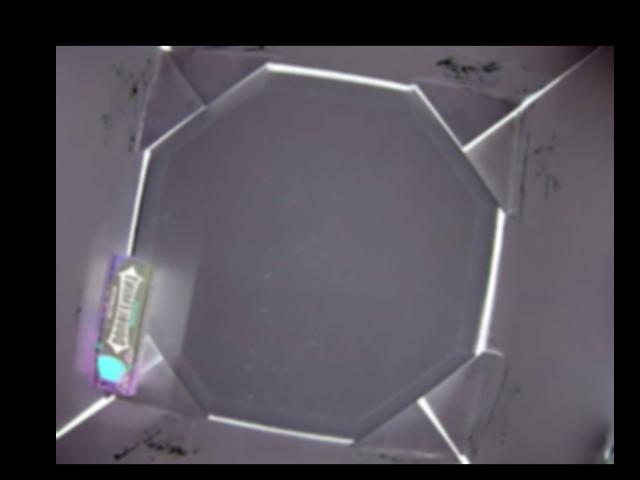Bottle: (86, 254, 157, 397)
